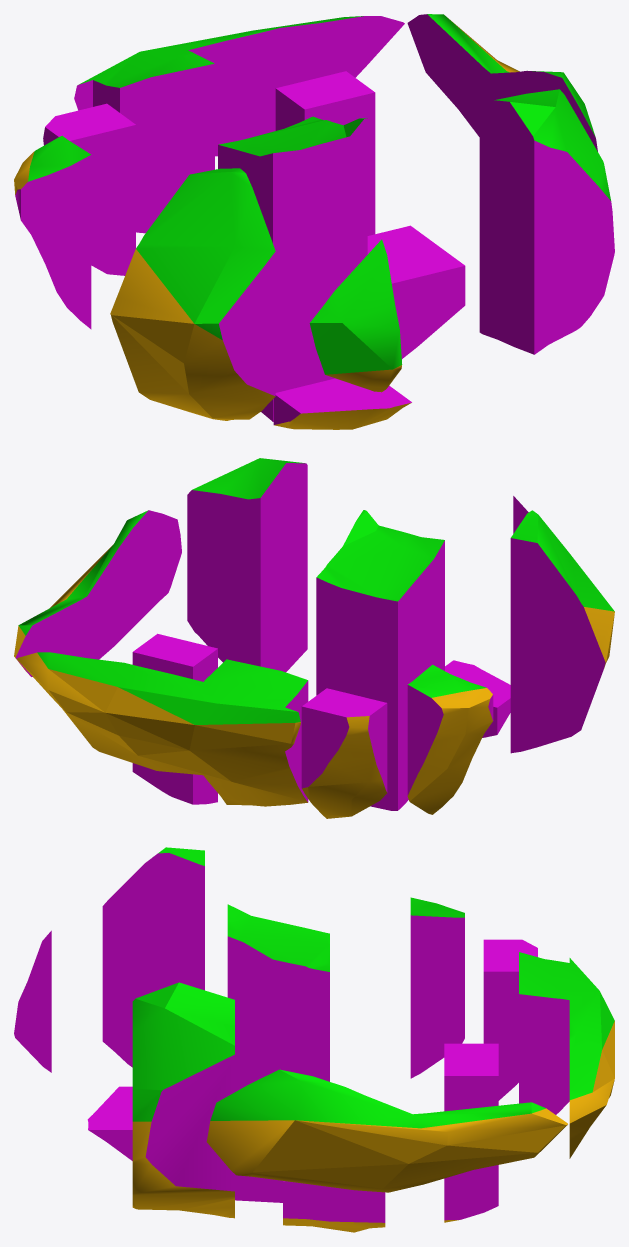
The model's file is LandChunkE_Glitch.fbx.
The picture shows the model from 3 angles, top to bottom: view 1: azimuth 30°, elevation 25°; view 2: azimuth 150°, elevation 25°; view 3: azimuth 270°, elevation 25°; orthographic projection. The views are drawn at different scales.
Visible parts, largest first — view 1: LandChunkE_Glitch; view 2: LandChunkE_Glitch; view 3: LandChunkE_Glitch.
Part boxes in pixels (<box>): LandChunkE_Glitch: <box>14,14,614,429</box>; LandChunkE_Glitch: <box>14,458,614,818</box>; LandChunkE_Glitch: <box>14,847,614,1232</box>.
Size of the model in its own units: 57.75 by 32.02 by 61.6.
